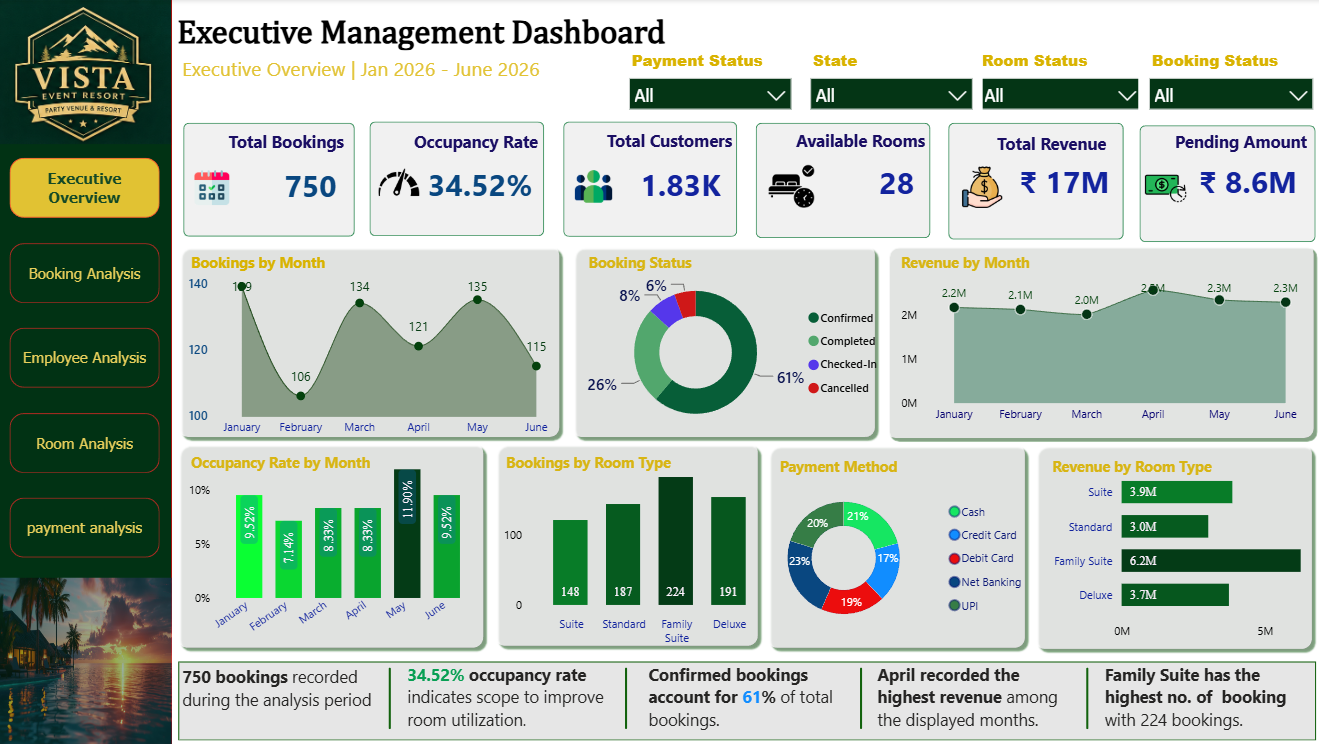

The dashboard page shown, as its layout file describes it:
{"tool":"powerbi","page":{"name":"Executive Overview","canvas":[1280,720],"ordinal":0},"visuals":[{"type":"shape","box":[1102.9,121.4,170,112.9],"z":0},{"type":"shape","box":[0,0,169,720],"z":1000},{"type":"textbox","box":[168.6,11.4,498.6,60],"z":2000},{"type":"shape","box":[169.1,231.8,380,197.3],"z":3000},{"type":"shape","box":[174.5,639.1,1098.2,76.4],"z":4000},{"type":"shape","box":[180,118.9,165.6,110],"z":5000},{"type":"shape","box":[359.3,118.6,168.6,110.7],"z":6000},{"type":"shape","box":[732.9,119.3,168.6,111.4],"z":7000},{"type":"shape","box":[546.4,118.6,167.9,111.4],"z":8000},{"type":"shape","box":[918.6,119.3,169.3,112.9],"z":9000},{"type":"image","box":[0,0,168.3,140],"z":10000},{"type":"image","box":[0,558.6,168.6,161.4],"z":11000},{"type":"textbox","box":[174.3,50,398.6,41.4],"z":12000},{"type":"cardVisual","fields":{"Data":["Booking_Dataset_Fact_Table.total_booking"]},"box":[186.7,142.2,158.9,73.3],"z":13000},{"type":"cardVisual","fields":{"Data":["Booking_Dataset_Fact_Table.occupancy_rate"]},"box":[390.8,127.5,143.3,100],"z":14000},{"type":"cardVisual","fields":{"Data":["Booking_Dataset_Fact_Table.Total_customer"]},"box":[542.2,128.9,174.4,97.8],"z":15000},{"type":"cardVisual","fields":{"Data":["Booking_Dataset_Fact_Table.Availables_Rooms"]},"box":[732.2,123.3,170,104.4],"z":16000},{"type":"cardVisual","fields":{"Data":["Booking_Dataset_Fact_Table.pending_payment"]},"box":[1104.4,126.7,168.9,96.7],"z":17000},{"type":"shape","box":[549.1,231.8,304.5,197.3],"z":18000},{"type":"shape","box":[852.9,231.4,422.9,197.1],"z":19000},{"type":"shape","box":[167.8,422.2,307.8,210],"z":20000},{"type":"shape","box":[474.5,422.7,266.4,208.2],"z":21000},{"type":"shape","box":[736.7,423.3,261.1,208.9],"z":22000},{"type":"shape","box":[995.6,423.3,280,210],"z":23000},{"type":"slicer","fields":{"Values":["Room_Dataset.Room_Status"]},"box":[938,43,178,70],"z":24000},{"type":"slicer","fields":{"Values":["Booking_Dataset_Fact_Table.Booking_Status"]},"box":[1101,43,179,70],"z":25000},{"type":"lineChart","fields":{"Category":["Booking_Dataset_Fact_Table.Booking_Date.Variation.Date Hierarchy.Month","Booking_Dataset_Fact_Table.Booking_Date.Variation.Date Hierarchy.Day"],"Y":["CountNonNull(Booking_Dataset_Fact_Table.Booking_ID)"]},"box":[180,261.2,368.8,163.1],"z":26000},{"type":"donutChart","fields":{"Category":["Booking_Dataset_Fact_Table.Booking_Status"],"Y":["Booking_Dataset_Fact_Table.total_booking"]},"box":[565.7,252.9,292.9,175.7],"z":27000},{"type":"lineChart","fields":{"Category":["Payment_Dataset.Payment_Date.Variation.Date Hierarchy.Month"],"Y":["Sum(Payment_Dataset.Total Amount)"]},"box":[867.9,261.4,407.1,156.4],"z":28000},{"type":"clusteredColumnChart","fields":{"Category":["Room_Dataset.Room_Type"],"Y":["CountNonNull(Payment_Dataset.Booking_ID)"]},"box":[483.6,447.9,266.4,184.3],"z":29000},{"type":"donutChart","fields":{"Category":["Payment_Dataset.Payment_Method"],"Y":["Sum(Payment_Dataset.Total Amount)"]},"box":[715,465,282.5,150],"z":30000},{"type":"clusteredColumnChart","fields":{"Category":["Booking_Dataset_Fact_Table.Checkin_Date.Variation.Date Hierarchy.Month"],"Y":["Booking_Dataset_Fact_Table.Occupancy Rate"]},"box":[180,440,288.6,182.9],"z":31000},{"type":"barChart","fields":{"Category":["Room_Dataset.Room_Type"],"Y":["Booking_Dataset_Fact_Table.Total_revenue"]},"box":[1009.3,439.3,261.4,188.6],"z":32000},{"type":"cardVisual","fields":{"Data":["Booking_Dataset_Fact_Table.Total_revenue"]},"box":[927.8,126.7,163.3,97.8],"z":33000},{"type":"textbox","box":[218.4,121.9,127.9,39.8],"z":34000},{"type":"textbox","box":[373.3,122.2,154.4,40],"z":35000},{"type":"textbox","box":[548.9,121.1,165.6,40],"z":36000},{"type":"textbox","box":[740,121.1,161.1,40],"z":37000},{"type":"textbox","box":[951.2,122.5,125,40],"z":38000},{"type":"textbox","box":[1125,121.2,145,40],"z":39000},{"type":"image","box":[185.8,165.3,43.4,33.8],"z":40000},{"type":"image","box":[364.3,156.8,47.1,39.8],"z":41000},{"type":"image","box":[551.3,162.9,48.3,36.2],"z":42000},{"type":"image","box":[740.8,159.3,51.9,43.4],"z":43000},{"type":"image","box":[927.8,161.7,45.8,39.8],"z":44000},{"type":"image","box":[1103.9,162.9,48.3,39.8],"z":45000},{"type":"textbox","box":[173.8,638.8,211.2,76.2],"z":46000},{"type":"textbox","box":[391.2,636.2,215,76.2],"z":47000},{"type":"textbox","box":[623.8,636.2,217.5,76.2],"z":48000},{"type":"textbox","box":[845,636.2,198.8,76.2],"z":49000},{"type":"textbox","box":[1063.8,636.2,206.2,76.2],"z":50000},{"type":"shape","box":[359.2,645,39.2,59.2],"z":51000},{"type":"shape","box":[587.5,645,39.2,59.2],"z":52000},{"type":"shape","box":[814.2,645,39.2,59.2],"z":53000},{"type":"shape","box":[1032.5,645,39.2,59.2],"z":54000},{"type":"textbox","box":[182.5,240,163.8,30],"z":55000},{"type":"textbox","box":[565.7,240,163.6,30],"z":56000},{"type":"textbox","box":[867.1,240,163.6,30],"z":57000},{"type":"textbox","box":[182.1,432.9,191.4,30],"z":58000},{"type":"textbox","box":[485.7,432.9,191.4,30],"z":59000},{"type":"textbox","box":[750.7,436.4,191.4,30],"z":60000},{"type":"textbox","box":[1012.9,436.4,191.4,30],"z":61000},{"type":"slicer","fields":{"Values":["Customer_Dataset.State"]},"box":[774,43,177,70],"z":62000},{"type":"slicer","fields":{"Values":["Payment_Dataset.Payment Status"]},"box":[600,43,177,70],"z":63000},{"type":"pageNavigator","box":[12.1,153.2,145.7,387.1],"z":64000}]}

Visuals, with their boxes in screenshot pixels (x1, y1, x2, y2), scaled from the page's 1280x720 canvas onto the 1319x744 screenshot:
shape: crop(1137, 125, 1312, 242)
shape: crop(0, 0, 174, 743)
textbox: crop(174, 12, 688, 74)
shape: crop(174, 240, 566, 443)
shape: crop(180, 660, 1311, 739)
shape: crop(185, 123, 356, 237)
shape: crop(370, 123, 544, 237)
shape: crop(755, 123, 929, 238)
shape: crop(563, 123, 736, 238)
shape: crop(947, 123, 1121, 240)
image: crop(0, 0, 173, 145)
image: crop(0, 577, 174, 743)
textbox: crop(180, 52, 590, 94)
cardVisual - Booking_Dataset_Fact_Table.total_booking: crop(192, 147, 356, 223)
cardVisual - Booking_Dataset_Fact_Table.occupancy_rate: crop(403, 132, 550, 235)
cardVisual - Booking_Dataset_Fact_Table.Total_customer: crop(559, 133, 738, 234)
cardVisual - Booking_Dataset_Fact_Table.Availables_Rooms: crop(755, 127, 930, 235)
cardVisual - Booking_Dataset_Fact_Table.pending_payment: crop(1138, 131, 1312, 231)
shape: crop(566, 240, 880, 443)
shape: crop(879, 239, 1315, 443)
shape: crop(173, 436, 490, 653)
shape: crop(489, 437, 763, 652)
shape: crop(759, 437, 1028, 653)
shape: crop(1026, 437, 1314, 654)
slicer - Room_Dataset.Room_Status: crop(967, 44, 1150, 117)
slicer - Booking_Dataset_Fact_Table.Booking_Status: crop(1135, 44, 1318, 117)
lineChart - Booking_Dataset_Fact_Table.Booking_Date.Variation.Date Hierarchy.Month x Booking_Dataset_Fact_Table.Booking_Date.Variation.Date Hierarchy.Day: crop(185, 270, 566, 438)
donutChart - Booking_Dataset_Fact_Table.Booking_Status x Booking_Dataset_Fact_Table.total_booking: crop(583, 261, 885, 443)
lineChart - Payment_Dataset.Payment_Date.Variation.Date Hierarchy.Month x Sum(Payment_Dataset.Total Amount): crop(894, 270, 1314, 432)
clusteredColumnChart - Room_Dataset.Room_Type x CountNonNull(Payment_Dataset.Booking_ID): crop(498, 463, 773, 653)
donutChart - Payment_Dataset.Payment_Method x Sum(Payment_Dataset.Total Amount): crop(737, 481, 1028, 636)
clusteredColumnChart - Booking_Dataset_Fact_Table.Checkin_Date.Variation.Date Hierarchy.Month x Booking_Dataset_Fact_Table.Occupancy Rate: crop(185, 455, 483, 644)
barChart - Room_Dataset.Room_Type x Booking_Dataset_Fact_Table.Total_revenue: crop(1040, 454, 1309, 649)
cardVisual - Booking_Dataset_Fact_Table.Total_revenue: crop(956, 131, 1124, 232)
textbox: crop(225, 126, 357, 167)
textbox: crop(385, 126, 544, 168)
textbox: crop(566, 125, 736, 166)
textbox: crop(763, 125, 929, 166)
textbox: crop(980, 127, 1109, 168)
textbox: crop(1159, 125, 1309, 167)
image: crop(191, 171, 236, 206)
image: crop(375, 162, 424, 203)
image: crop(568, 168, 618, 206)
image: crop(763, 165, 817, 209)
image: crop(956, 167, 1003, 208)
image: crop(1138, 168, 1187, 209)
textbox: crop(179, 660, 397, 739)
textbox: crop(403, 657, 625, 736)
textbox: crop(643, 657, 867, 736)
textbox: crop(871, 657, 1076, 736)
textbox: crop(1096, 657, 1309, 736)
shape: crop(370, 667, 411, 728)
shape: crop(605, 667, 646, 728)
shape: crop(839, 667, 879, 728)
shape: crop(1064, 667, 1104, 728)
textbox: crop(188, 248, 357, 279)
textbox: crop(583, 248, 752, 279)
textbox: crop(894, 248, 1062, 279)
textbox: crop(188, 447, 385, 478)
textbox: crop(500, 447, 698, 478)
textbox: crop(774, 451, 971, 482)
textbox: crop(1044, 451, 1241, 482)
slicer - Customer_Dataset.State: crop(798, 44, 980, 117)
slicer - Payment_Dataset.Payment Status: crop(618, 44, 801, 117)
pageNavigator: crop(12, 158, 163, 558)
